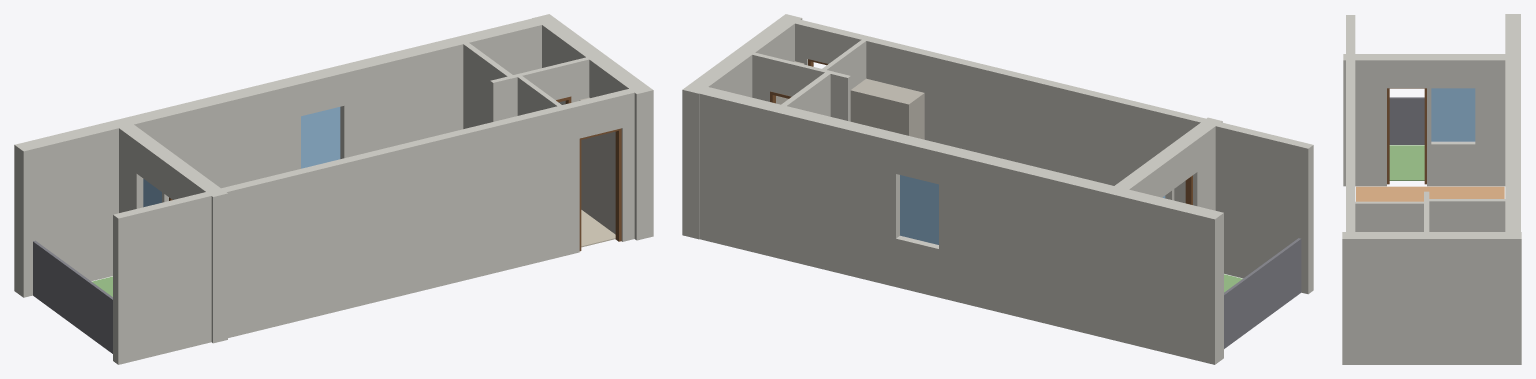
The picture shows the model from 3 angles, left to right: view 1: azimuth 30°, elevation 25°; view 2: azimuth 150°, elevation 25°; view 3: azimuth 270°, elevation 25°; orthographic projection. The views are drawn at different scales.
Visible parts, largest first — view 1: walls, railings, furniture_1_closet, window_0, door_3, floor_4_Entry; view 2: walls, railings, furniture_2_closet, window_0; view 3: walls, window_1, floor_1_Living_Room, railings, floor_0_Outdoor, door_2.
Part boxes in pixels (left/top/right/bottom): walls: left=14, top=14, right=653, bottom=364; railings: left=33, top=240, right=112, bottom=353; furniture_1_closet: left=579, top=97, right=615, bottom=234; window_0: left=301, top=107, right=340, bottom=168; door_3: left=579, top=128, right=621, bottom=251; floor_4_Entry: left=581, top=210, right=615, bottom=247; walls: left=682, top=14, right=1313, bottom=364; railings: left=1224, top=238, right=1301, bottom=348; furniture_2_closet: left=850, top=78, right=924, bottom=139; window_0: left=900, top=175, right=938, bottom=244; walls: left=1342, top=14, right=1521, bottom=364; window_1: left=1431, top=88, right=1475, bottom=141; floor_1_Living_Room: left=1356, top=186, right=1504, bottom=201; railings: left=1389, top=97, right=1424, bottom=144; floor_0_Outdoor: left=1389, top=145, right=1424, bottom=180; door_2: left=1387, top=88, right=1426, bottom=184.
Size of the model in its own units: 10.33 by 2.72 by 3.48.
